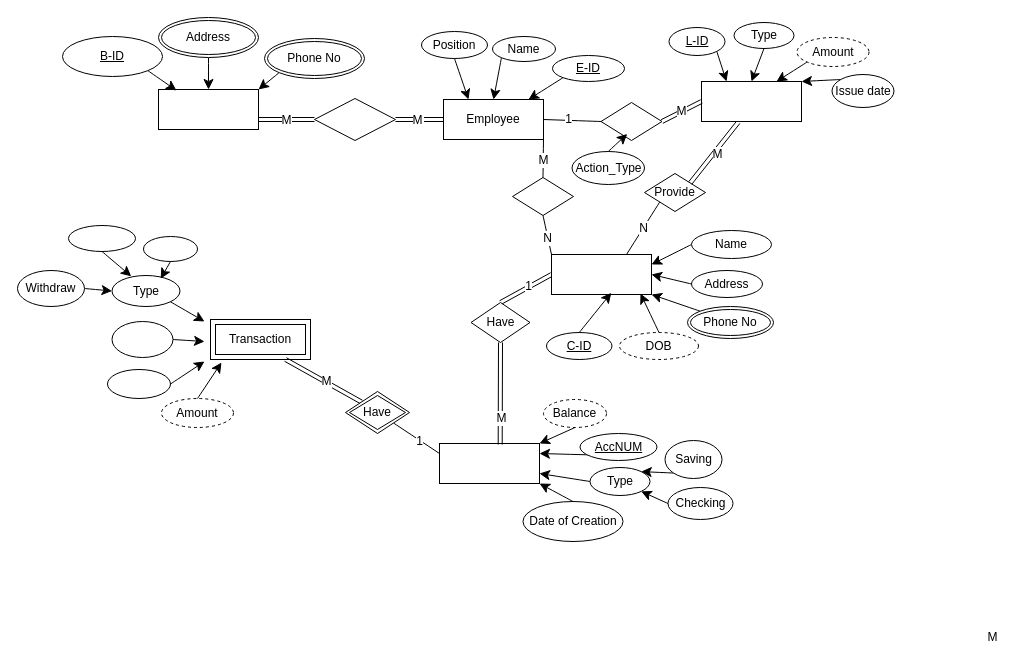
The diagram is 1014 pixels wide and 661 high, and some of its shapes have lost their labels. The shapes that lost their labels are listed below. From the top down, each one's box as (x1, y1, x2, y2) in pixels, then its label:
(158, 88, 258, 130): Branch
(314, 98, 396, 140): Work
(600, 102, 662, 140): Handle
(700, 80, 802, 122): Loan
(512, 176, 574, 216): Assist
(68, 224, 136, 252): Transfer
(142, 236, 198, 262): Deposit
(550, 254, 652, 294): Customer
(111, 320, 173, 358): T-ID
(106, 368, 170, 398): Date
(438, 442, 540, 484): Account
